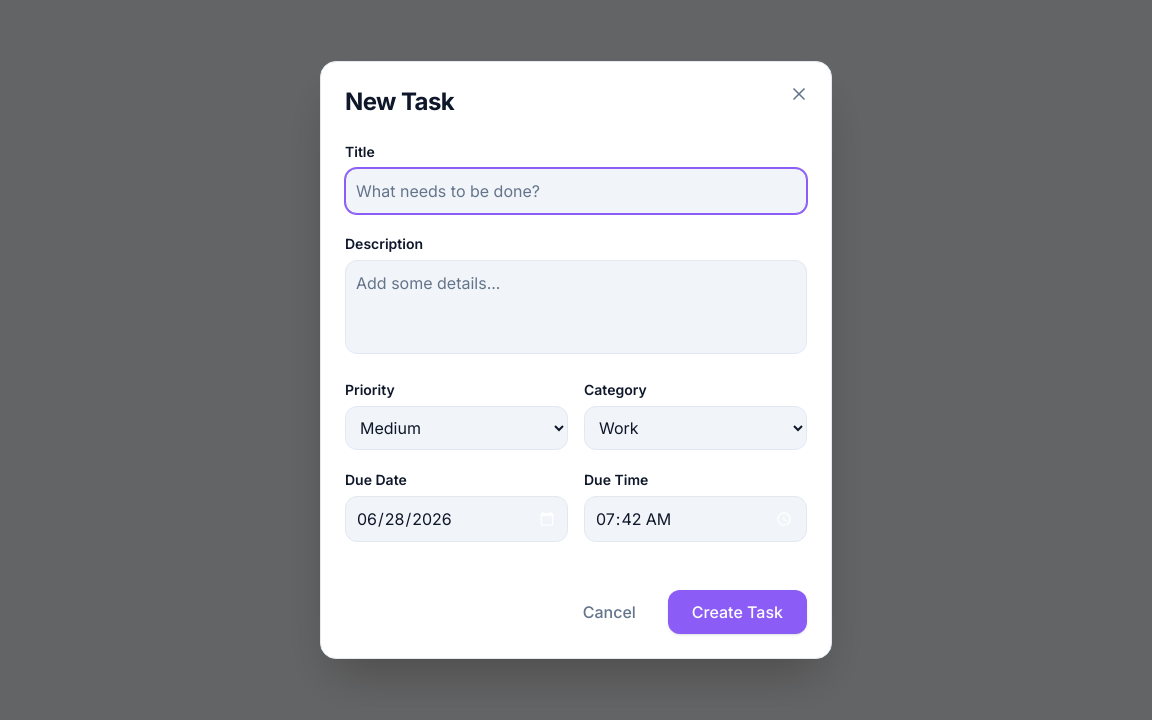
Scenario: TaskForm Component › shows validation errors when submitted with empty fields
Click the button "Create Task": click(737, 612) x1=668 y1=590 x2=807 y2=634
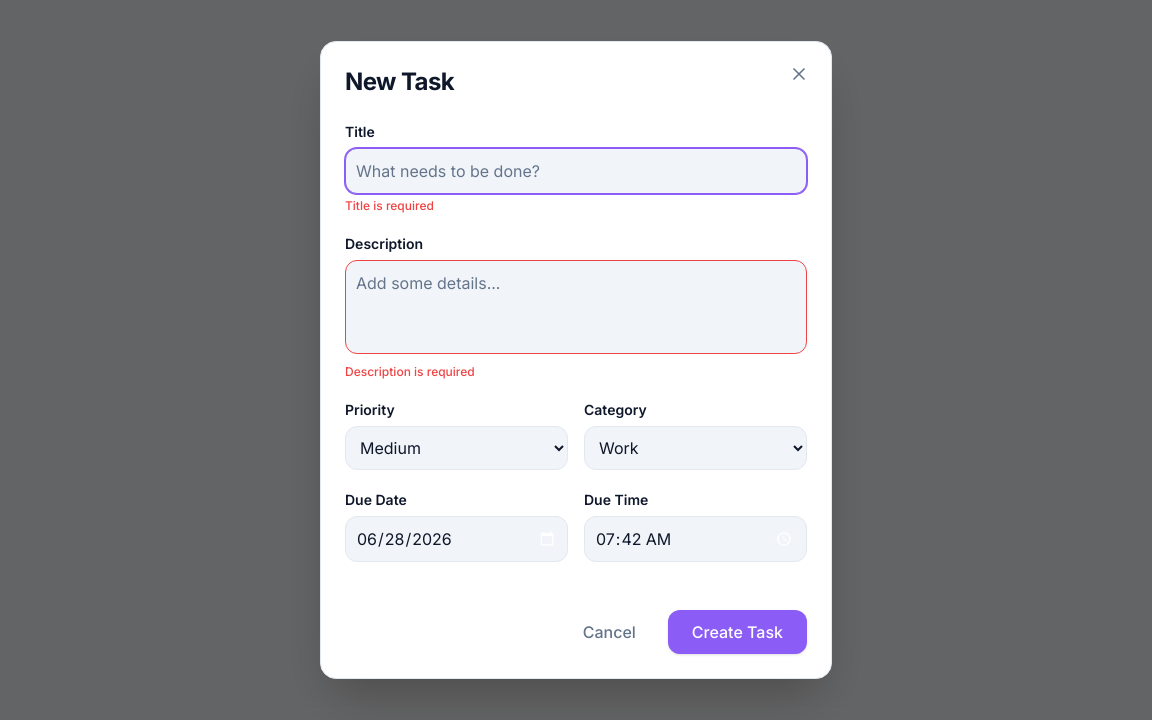
Expected: the text "Title is required" is shown, x1=345 y1=198 x2=434 y2=213
Expected: the text "Description is required" is shown, x1=345 y1=364 x2=475 y2=379
